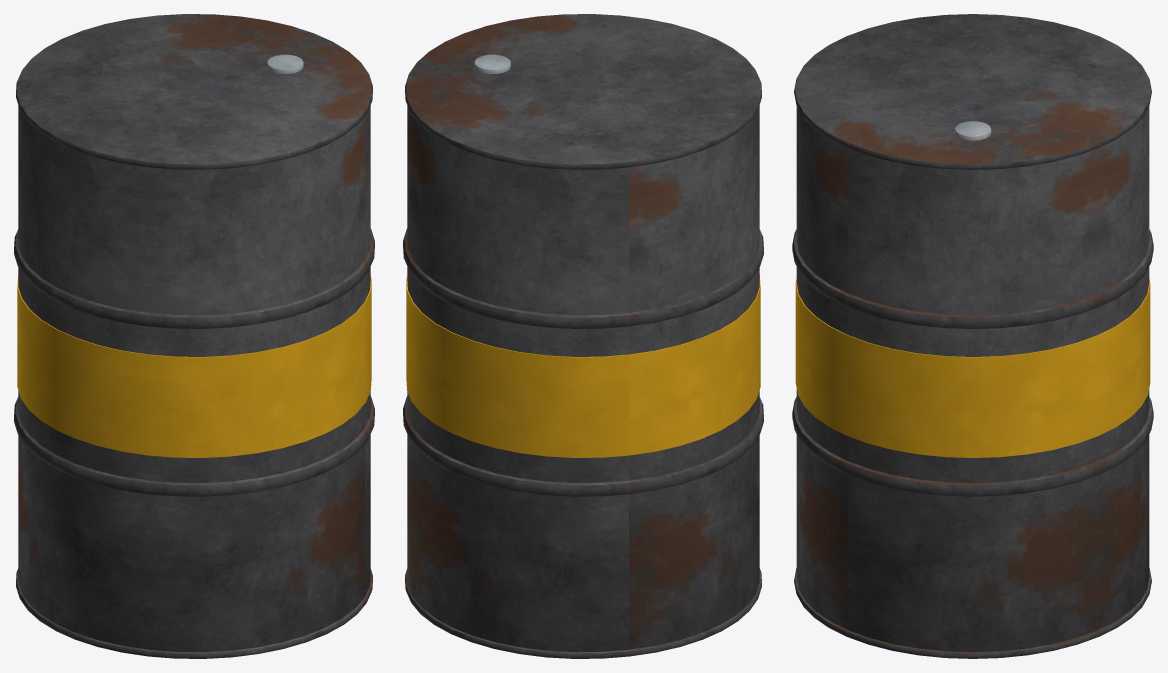
File: PAV-ASF-001.glb
3 renders of one model, left to right at view 1: azimuth 30°, elevation 25°; view 2: azimuth 150°, elevation 25°; view 3: azimuth 270°, elevation 25°, orthographic.
Visible parts, largest first — view 1: PAV-ASF-001_corpo, PAV-ASF-001_borda87, PAV-ASF-001_faixa, PAV-ASF-001_aro28, PAV-ASF-001_aro59, PAV-ASF-001_borda0, PAV-ASF-001_bujao; view 2: PAV-ASF-001_corpo, PAV-ASF-001_borda87, PAV-ASF-001_faixa, PAV-ASF-001_aro28, PAV-ASF-001_aro59, PAV-ASF-001_borda0, PAV-ASF-001_bujao; view 3: PAV-ASF-001_corpo, PAV-ASF-001_borda87, PAV-ASF-001_faixa, PAV-ASF-001_aro59, PAV-ASF-001_aro28, PAV-ASF-001_borda0, PAV-ASF-001_bujao.
Boxes of the visible parts, x1=… form: PAV-ASF-001_corpo: x1=18, y1=105, x2=370, y2=652; PAV-ASF-001_borda87: x1=16, y1=14, x2=372, y2=169; PAV-ASF-001_faixa: x1=17, y1=275, x2=371, y2=457; PAV-ASF-001_aro28: x1=14, y1=396, x2=374, y2=496; PAV-ASF-001_aro59: x1=14, y1=228, x2=374, y2=328; PAV-ASF-001_borda0: x1=16, y1=568, x2=372, y2=658; PAV-ASF-001_bujao: x1=267, y1=54, x2=303, y2=73; PAV-ASF-001_corpo: x1=407, y1=105, x2=759, y2=652; PAV-ASF-001_borda87: x1=405, y1=14, x2=761, y2=169; PAV-ASF-001_faixa: x1=406, y1=275, x2=760, y2=457; PAV-ASF-001_aro28: x1=403, y1=396, x2=763, y2=496; PAV-ASF-001_aro59: x1=403, y1=228, x2=763, y2=328; PAV-ASF-001_borda0: x1=405, y1=568, x2=761, y2=658; PAV-ASF-001_bujao: x1=474, y1=54, x2=510, y2=73; PAV-ASF-001_corpo: x1=796, y1=106, x2=1149, y2=652; PAV-ASF-001_borda87: x1=794, y1=14, x2=1151, y2=169; PAV-ASF-001_faixa: x1=795, y1=278, x2=1150, y2=457; PAV-ASF-001_aro59: x1=792, y1=229, x2=1153, y2=328; PAV-ASF-001_aro28: x1=792, y1=397, x2=1153, y2=496; PAV-ASF-001_borda0: x1=794, y1=568, x2=1151, y2=658; PAV-ASF-001_bujao: x1=954, y1=121, x2=991, y2=140.
Bounding box in the file's own units: 0.586 × 0.895 × 0.586.
Materials: 3 (3 with a texture image).
